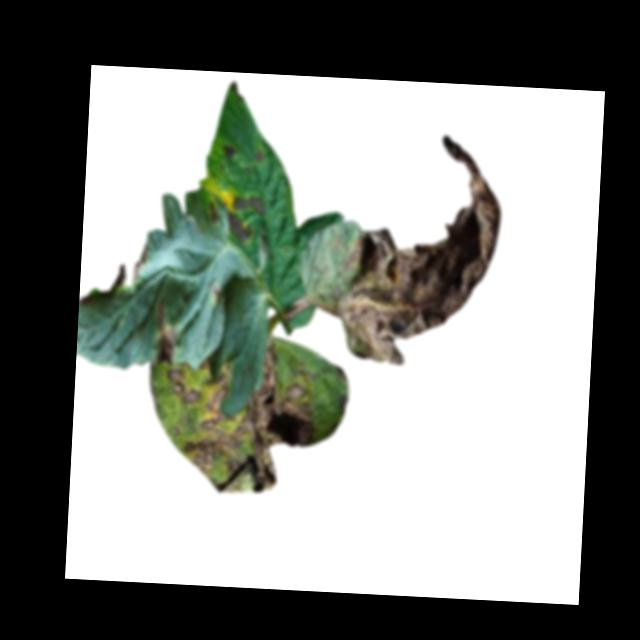Early_blight: (333, 126, 509, 369), (149, 332, 320, 497), (152, 296, 182, 363), (223, 212, 255, 244), (129, 240, 149, 287), (230, 192, 267, 214), (254, 145, 268, 163), (221, 144, 239, 158)
